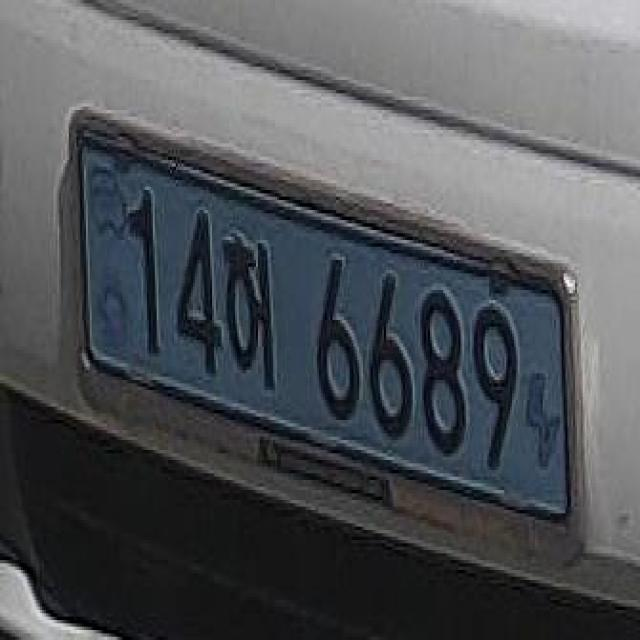EV_plate: (65, 110, 589, 550)
